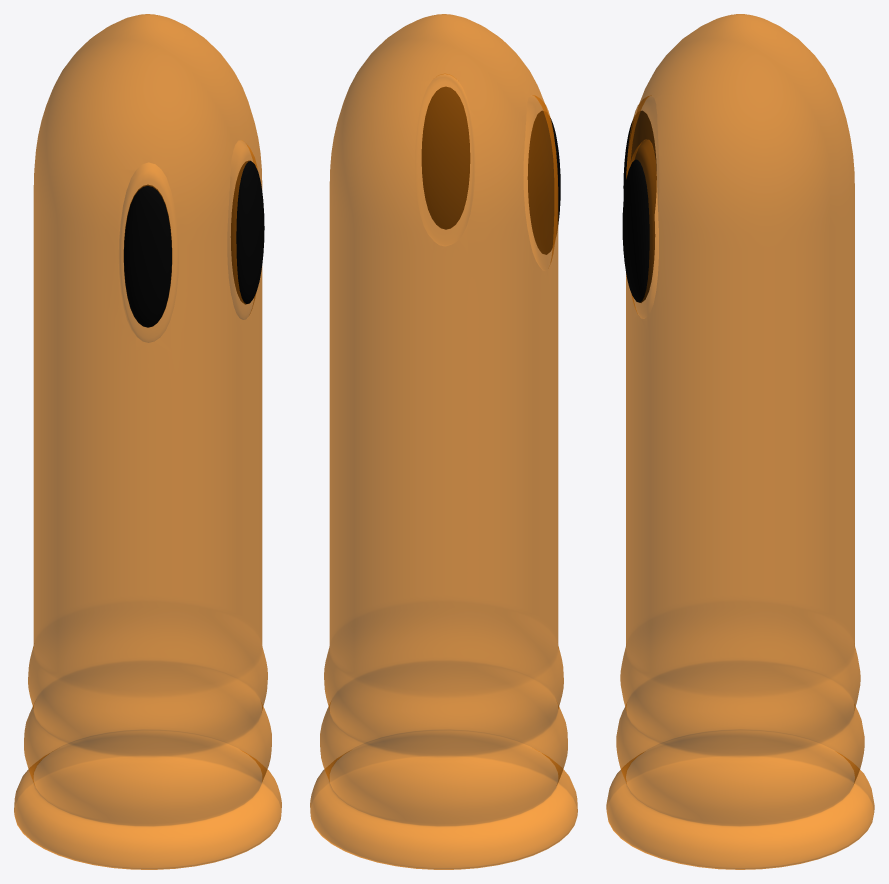
File: Ennemis_OrangeMarche.fbx
3 views of the same model, side by side, from view 1: azimuth 30°, elevation 25°; view 2: azimuth 150°, elevation 25°; view 3: azimuth 270°, elevation 25° (orthographic).
Visible parts, largest first — view 1: MonstrePrincipal, Right_Eye, Right_eye; view 2: MonstrePrincipal, Right_eye, Right_Eye; view 3: MonstrePrincipal, Right_eye, Right_Eye.
Part boxes in pixels (x1=…): MonstrePrincipal: x1=14, y1=14, x2=281, y2=869; Right_Eye: x1=123, y1=184, x2=172, y2=327; Right_eye: x1=231, y1=160, x2=264, y2=304; MonstrePrincipal: x1=310, y1=14, x2=577, y2=869; Right_eye: x1=421, y1=86, x2=470, y2=229; Right_Eye: x1=527, y1=110, x2=560, y2=254; MonstrePrincipal: x1=606, y1=14, x2=874, y2=869; Right_eye: x1=622, y1=159, x2=655, y2=302; Right_Eye: x1=623, y1=110, x2=656, y2=214.
Bounding box in the file's own units: 5.72 × 18.81 × 5.72.
